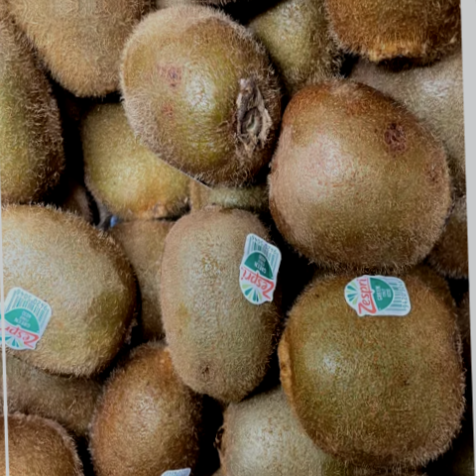kiwi: (260, 247, 472, 475), (246, 73, 458, 297), (90, 0, 318, 185), (136, 182, 292, 410), (0, 194, 140, 402)
